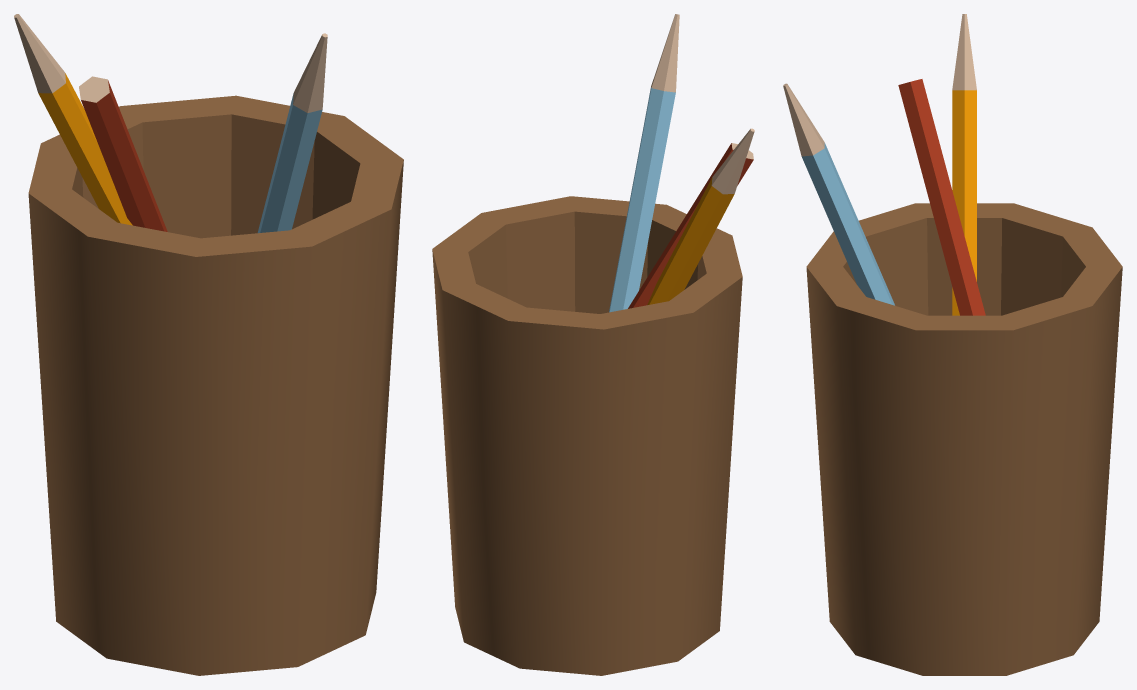
The model's file is SM_PencilCup.fbx.
3 renders of one model, left to right at view 1: azimuth 30°, elevation 25°; view 2: azimuth 150°, elevation 25°; view 3: azimuth 270°, elevation 25°, orthographic. The views are drawn at different scales.
Parts seen in each view (by area): view 1: SM_PencilCup; view 2: SM_PencilCup; view 3: SM_PencilCup.
Part boxes in pixels (x1,y1,x2,y2): SM_PencilCup: (14, 14, 403, 675); SM_PencilCup: (432, 14, 754, 675); SM_PencilCup: (783, 14, 1122, 675).
Size of the model in its own units: 0.1104 by 0.1912 by 0.1094.
Materials: 1 (1 with a texture image).
